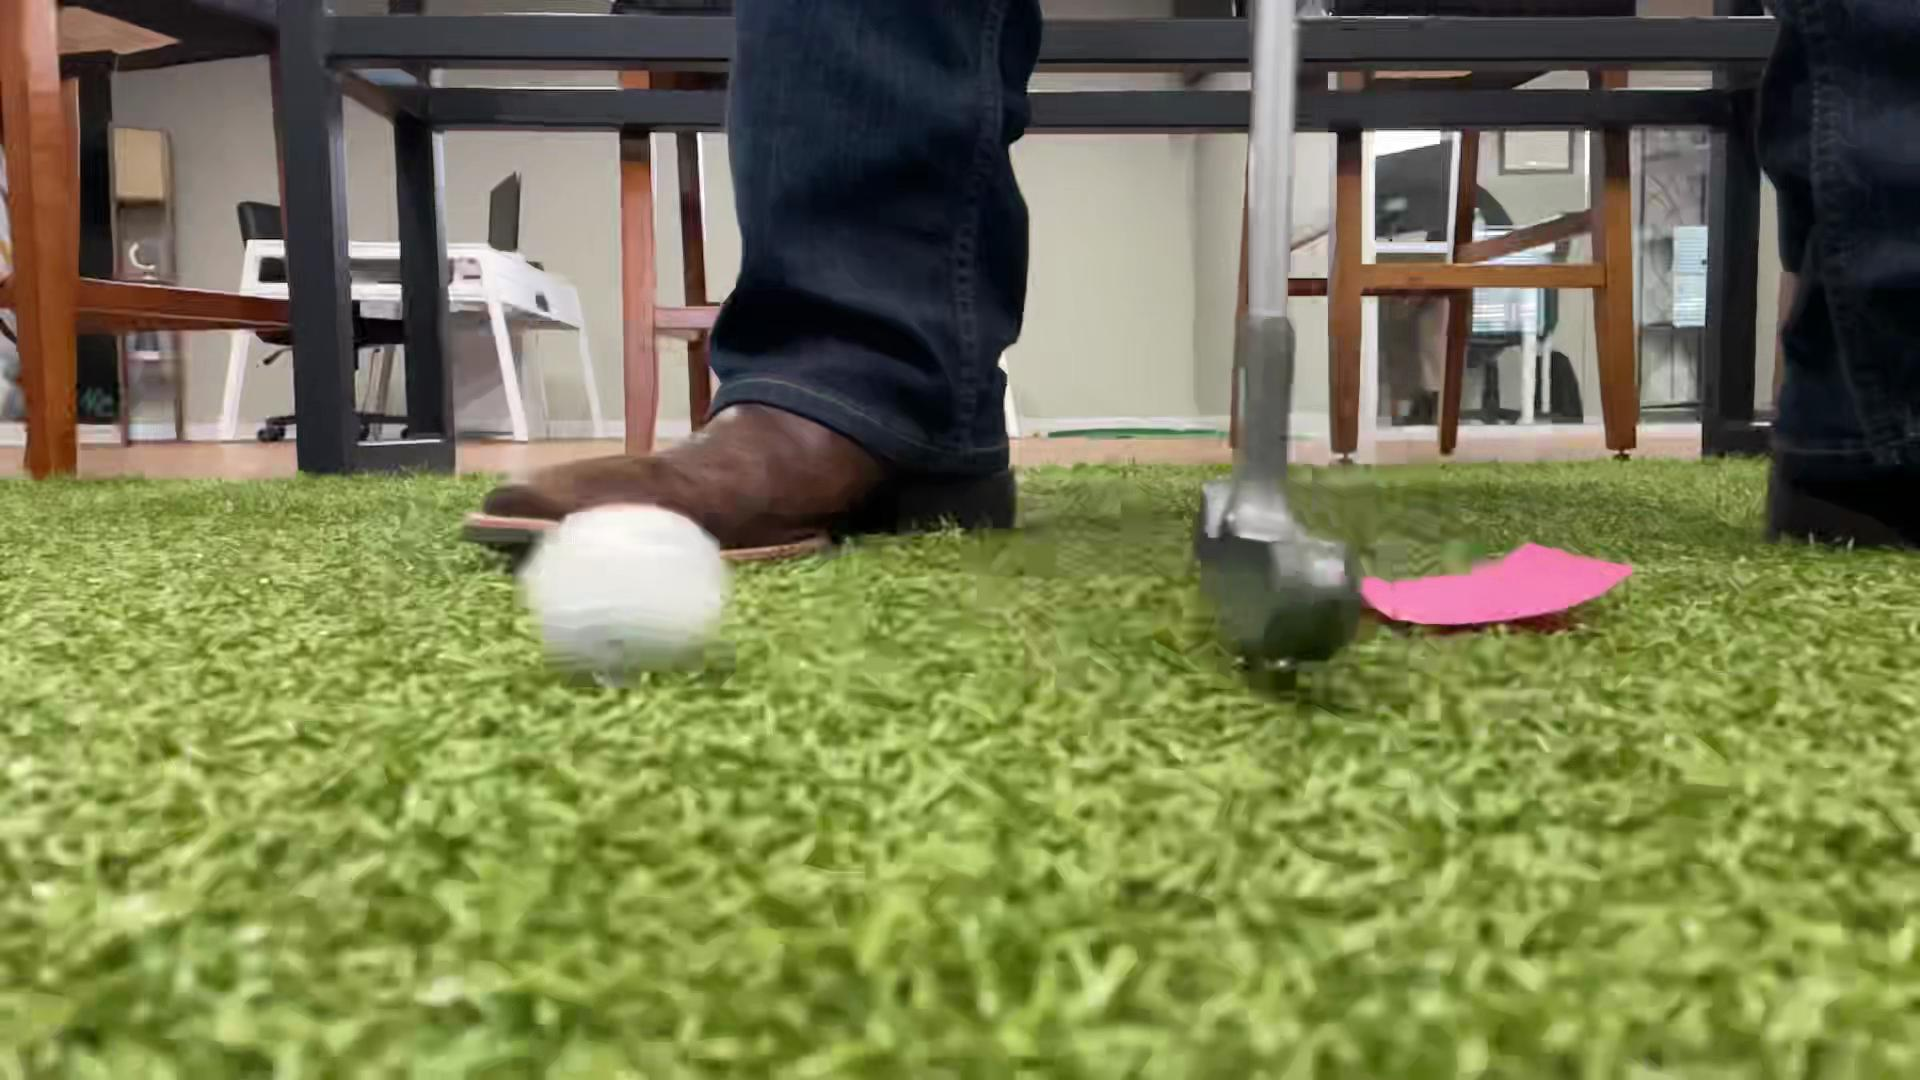golfball: (525, 507, 728, 677)
